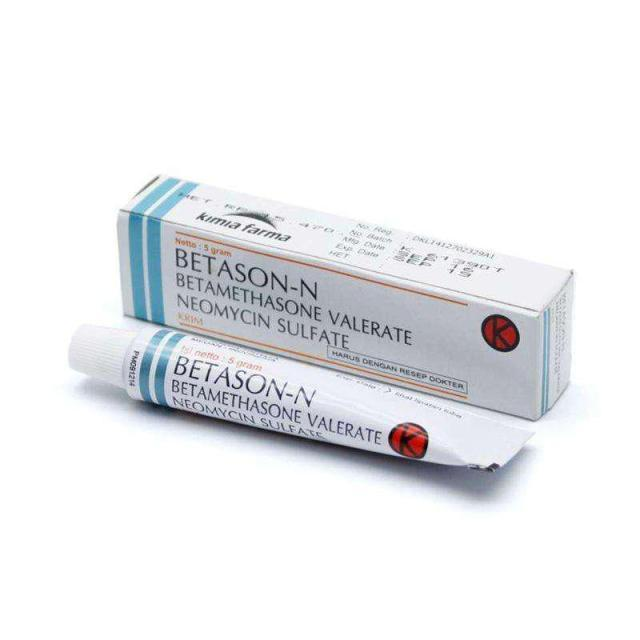drug-name: (173, 248, 319, 302)
